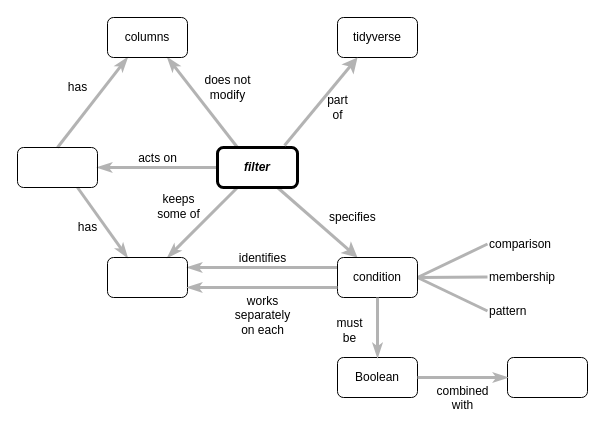
The diagram is 605 pixels wide and 431 high, and some of its shapes have lost their labels. Each missing label, with the centre of its shape:
"and / or / not" belongs at point (547, 377).
"dataframe" belongs at point (57, 167).
"rows" belongs at point (147, 277).
